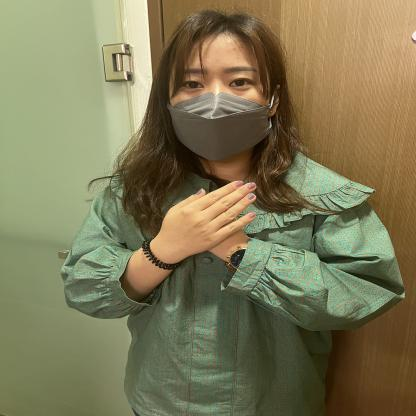Grieve: (50, 131, 336, 303)
